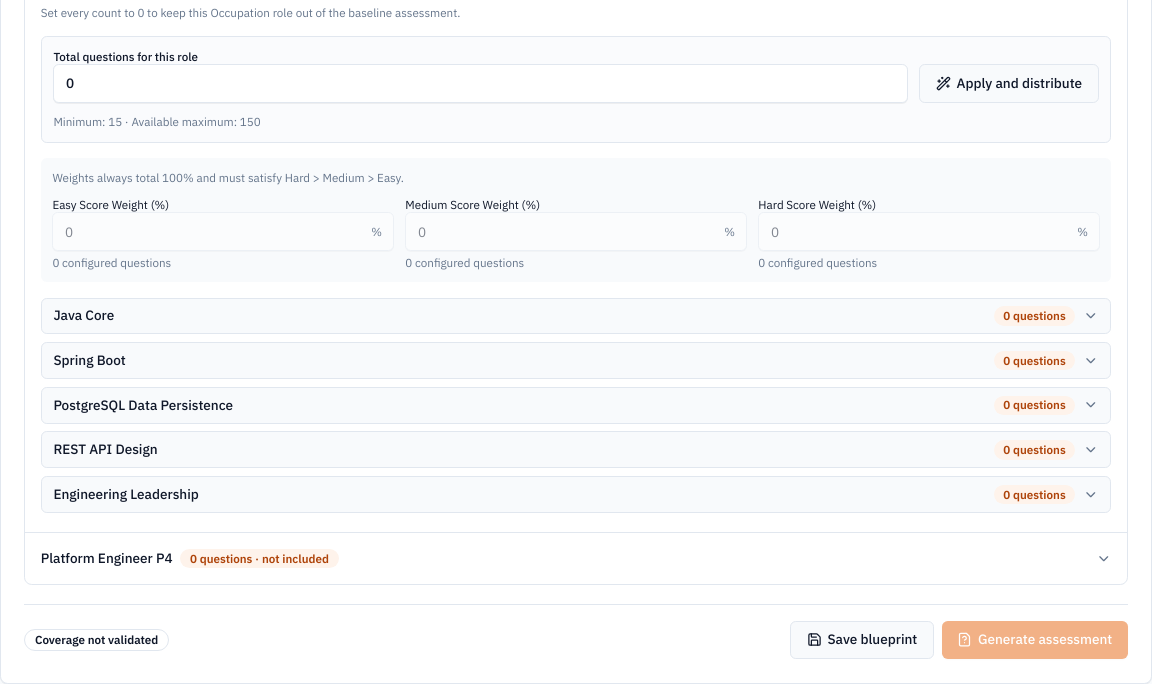
BaselineBlueprintPage › keeps multiple role panels open and collapses them independently
(page scrolled)
Step 1. Click the button "Platform Engineer P4 0 questions · not included" → (107,558), box [41,537,1111,580]
(page scrolled)
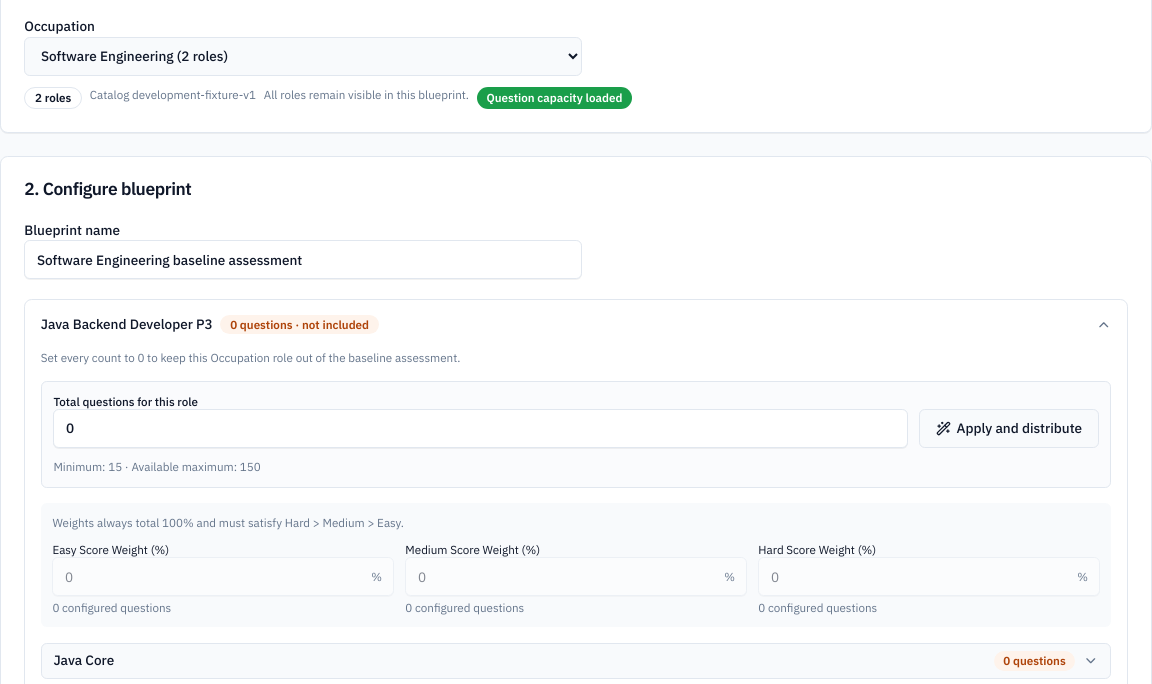
Step 2. Click the button "Java Backend Developer P3 0 questions · not included" → (127,324), box [41,303,1111,346]
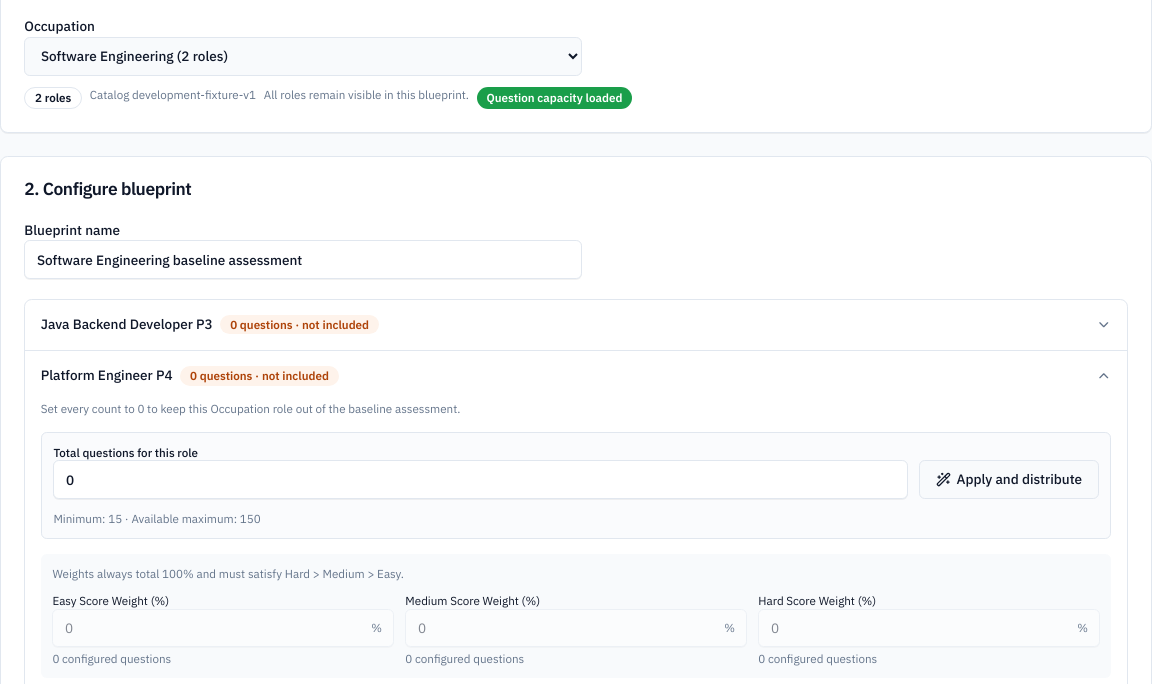
Expected: the button "Platform Engineer P4 0 questions · not included" is expanded, [41,355,1111,397]
Expected: the button "Java Backend Developer P3 0 questions · not included" is collapsed, [41,303,1111,346]
